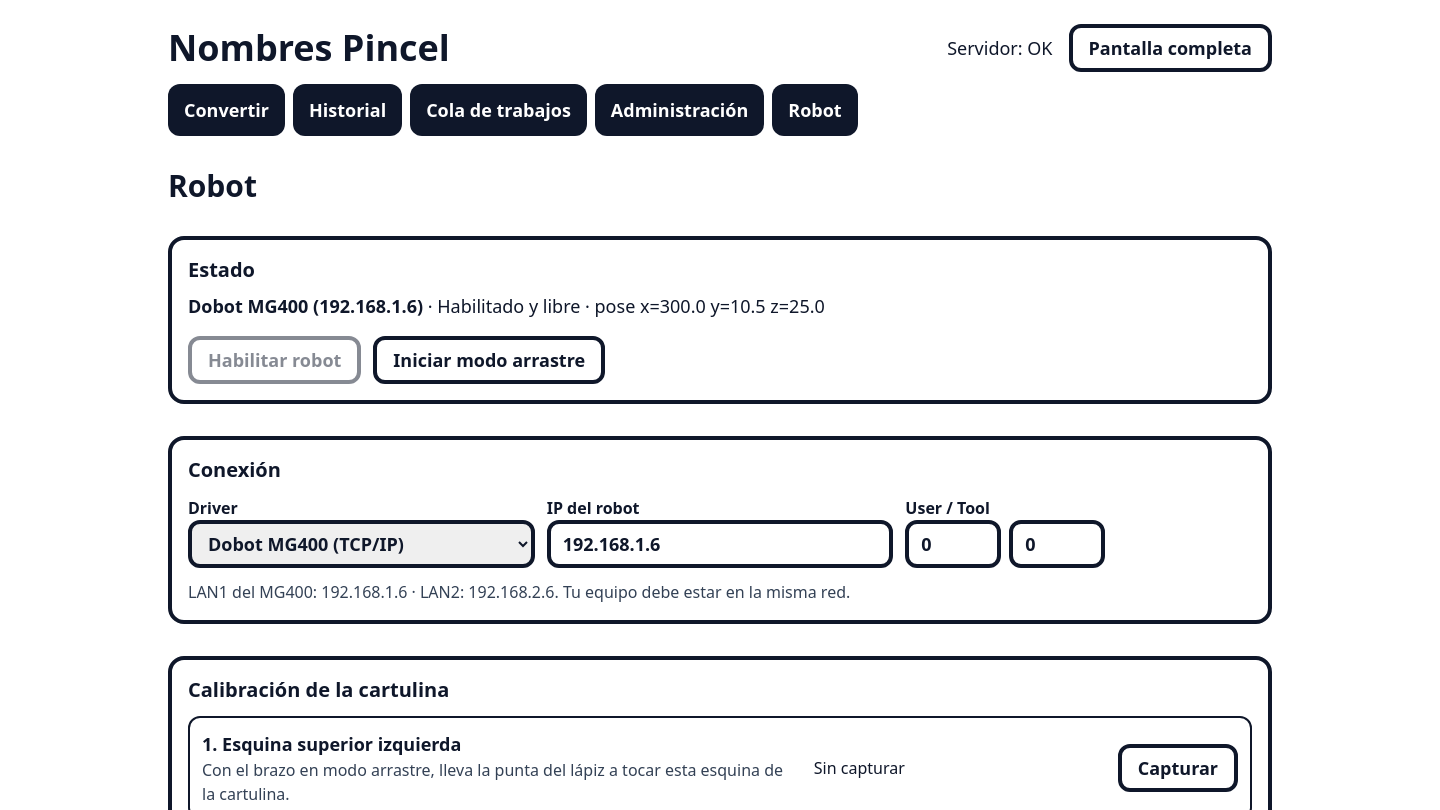
Test: RobotPage › muestra el error si el robot no responde al capturar
The image size is (1440, 810).
What coordinates should you click on to do the following:
click the button with aria-label "Capturar 1."
I would click on:
 (1178, 768)
Its box is [1118,744,1238,792].
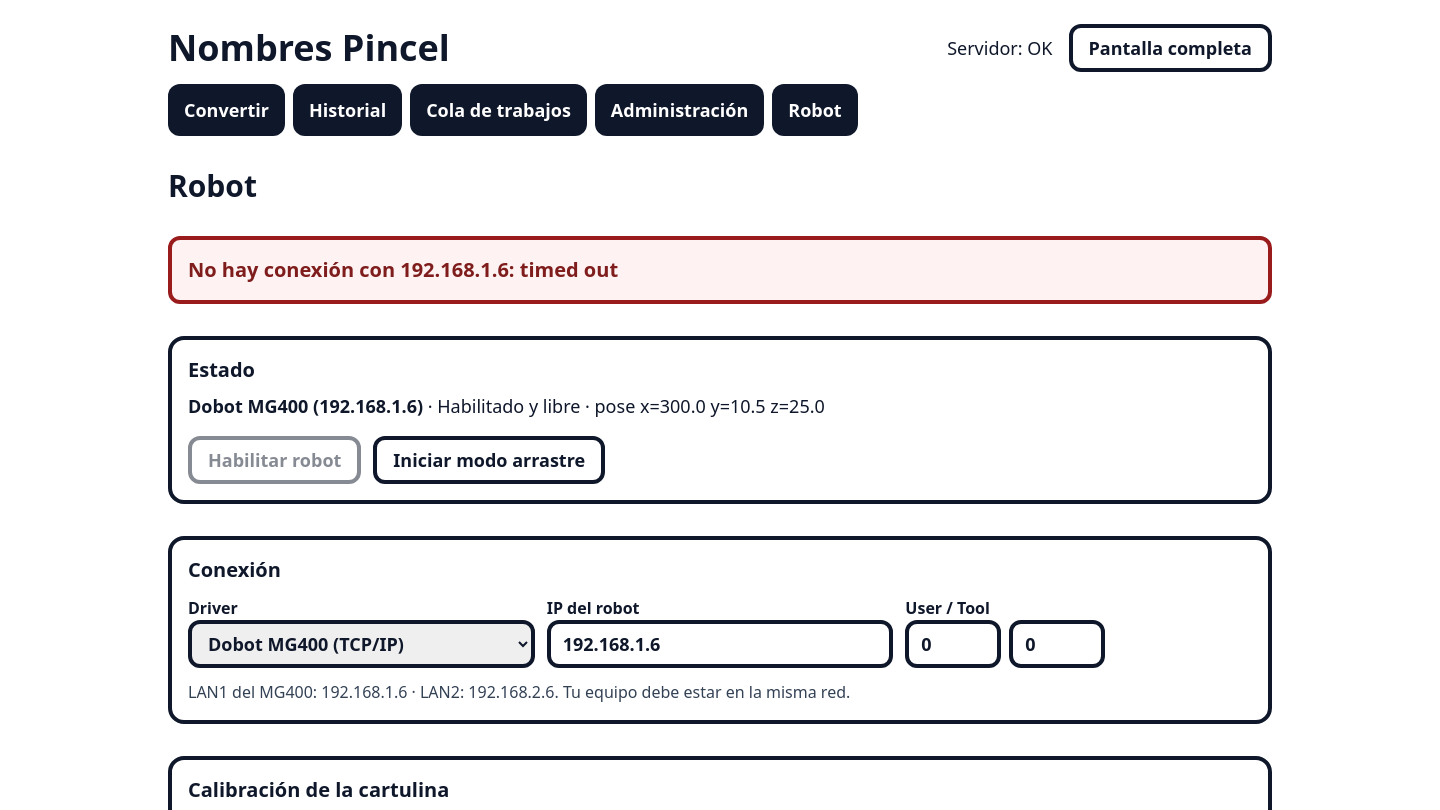
Now the message shows "No hay conexión", box [188,256,618,283]
